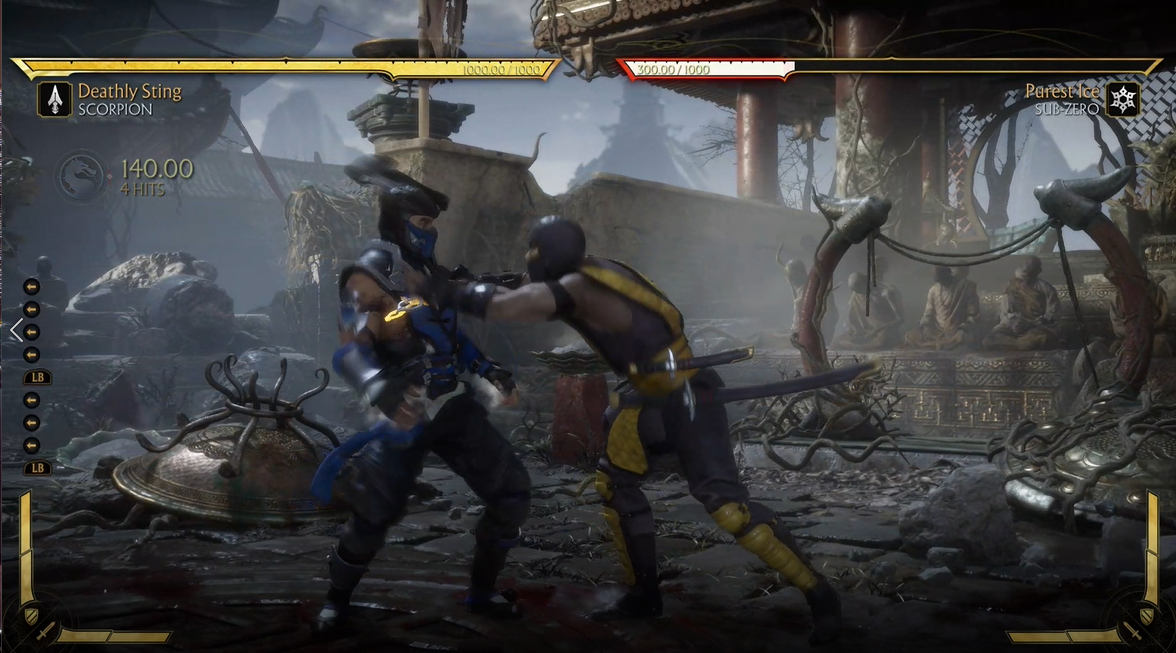grab: (296, 164, 876, 637)
